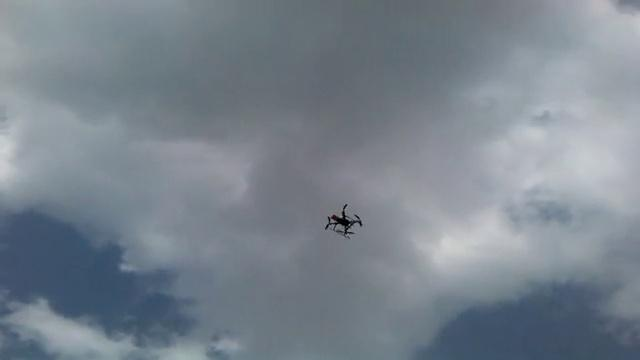drone: (320, 199, 365, 238)
